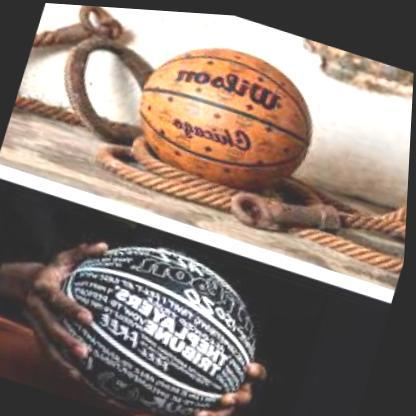basketball: (25, 215, 284, 416), (125, 24, 333, 207)
